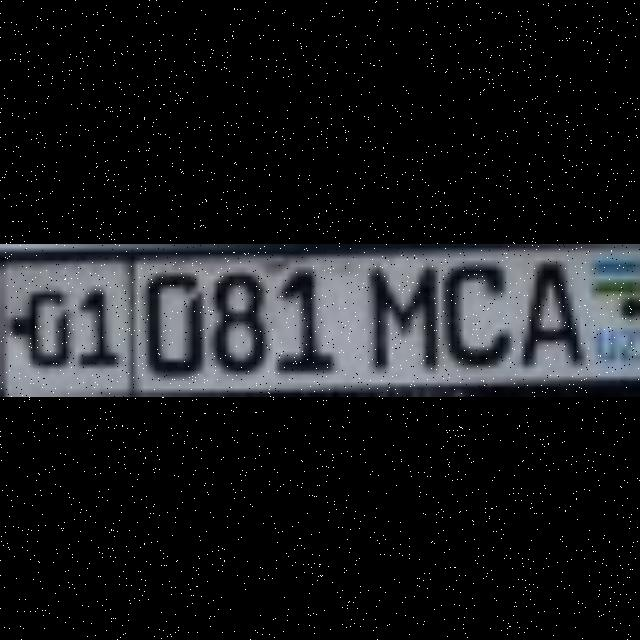0: (135, 268, 197, 372), (12, 280, 62, 360)
1: (264, 262, 320, 366), (68, 280, 104, 360)
8: (204, 262, 258, 366)
A: (511, 256, 573, 360)
C: (437, 256, 505, 360)
M: (357, 256, 431, 366)
